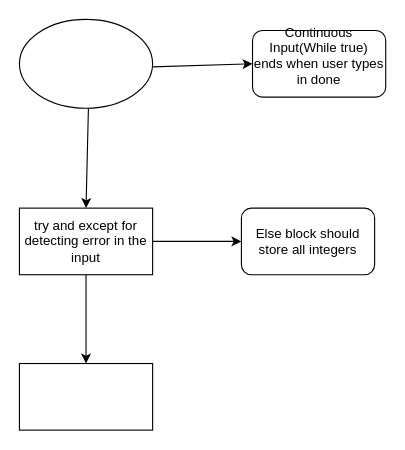
Image size: 405x450. Some labels were removed from this diagram. Each missing label, with the centre of its shape:
"Input (>)" goes at point 85,63.
"perform total, count and average" goes at point 85,396.
